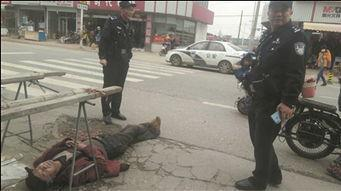Fall-Detected: (25, 108, 161, 191)
